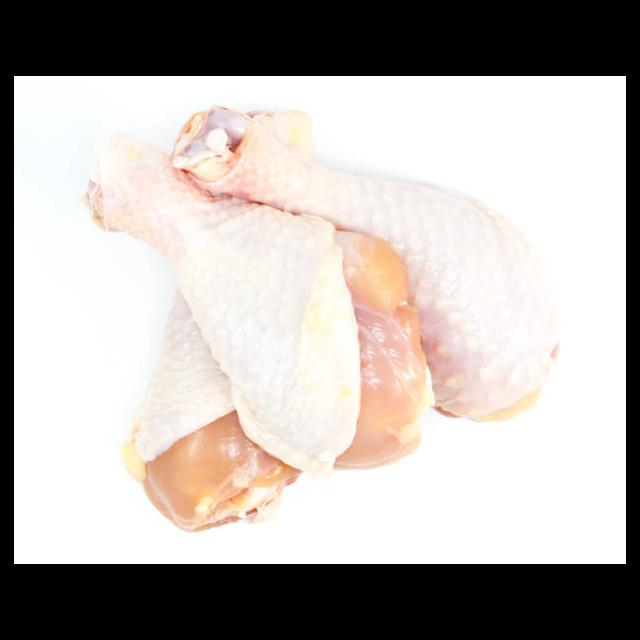chicken: (178, 111, 561, 424), (76, 145, 429, 470), (119, 279, 301, 530)
